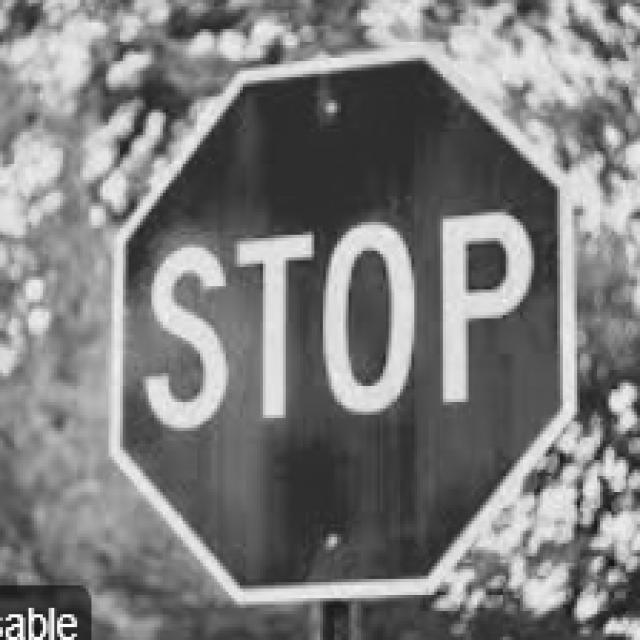Stop-signs: (112, 43, 573, 602)
